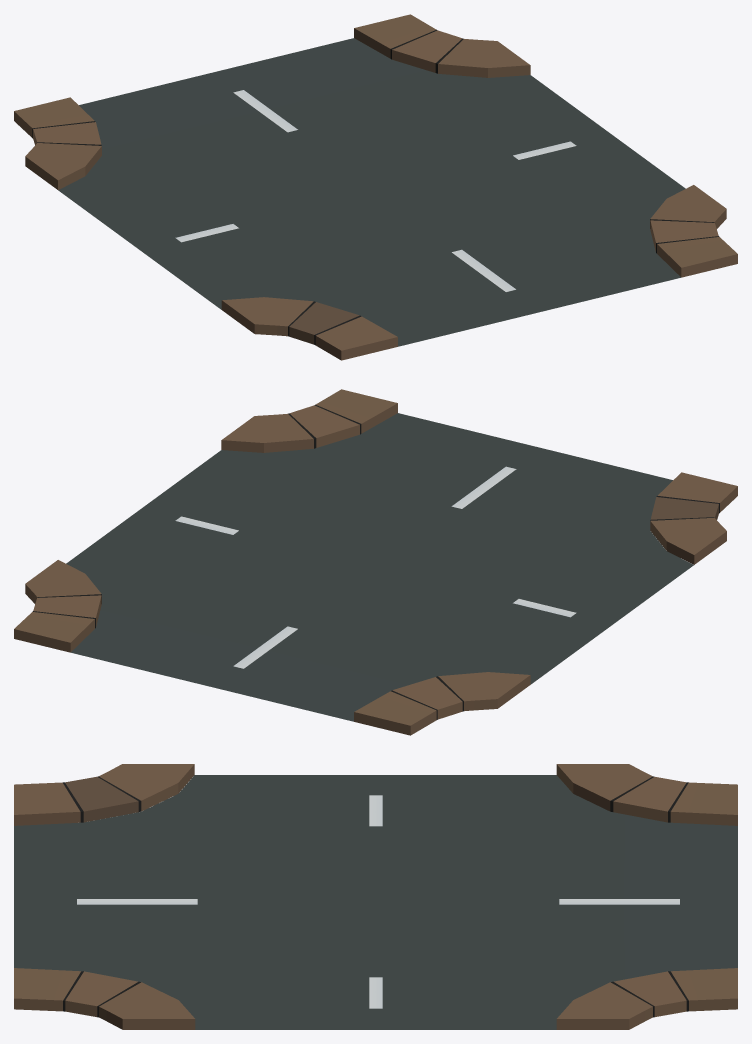
The model's file is Road_1_114.fbx.
The picture shows the model from 3 angles, top to bottom: view 1: azimuth 30°, elevation 25°; view 2: azimuth 150°, elevation 25°; view 3: azimuth 270°, elevation 25°; orthographic projection. The views are drawn at different scales.
Parts seen in each view (by area): view 1: Road_1_114; view 2: Road_1_114; view 3: Road_1_114.
Boxes of the visible parts, box(x1,y1,x2,y2) form: Road_1_114: box(14, 14, 737, 360); Road_1_114: box(14, 389, 737, 735); Road_1_114: box(14, 764, 737, 1029).
Size of the model in its own units: 1500 by 30 by 1800.
